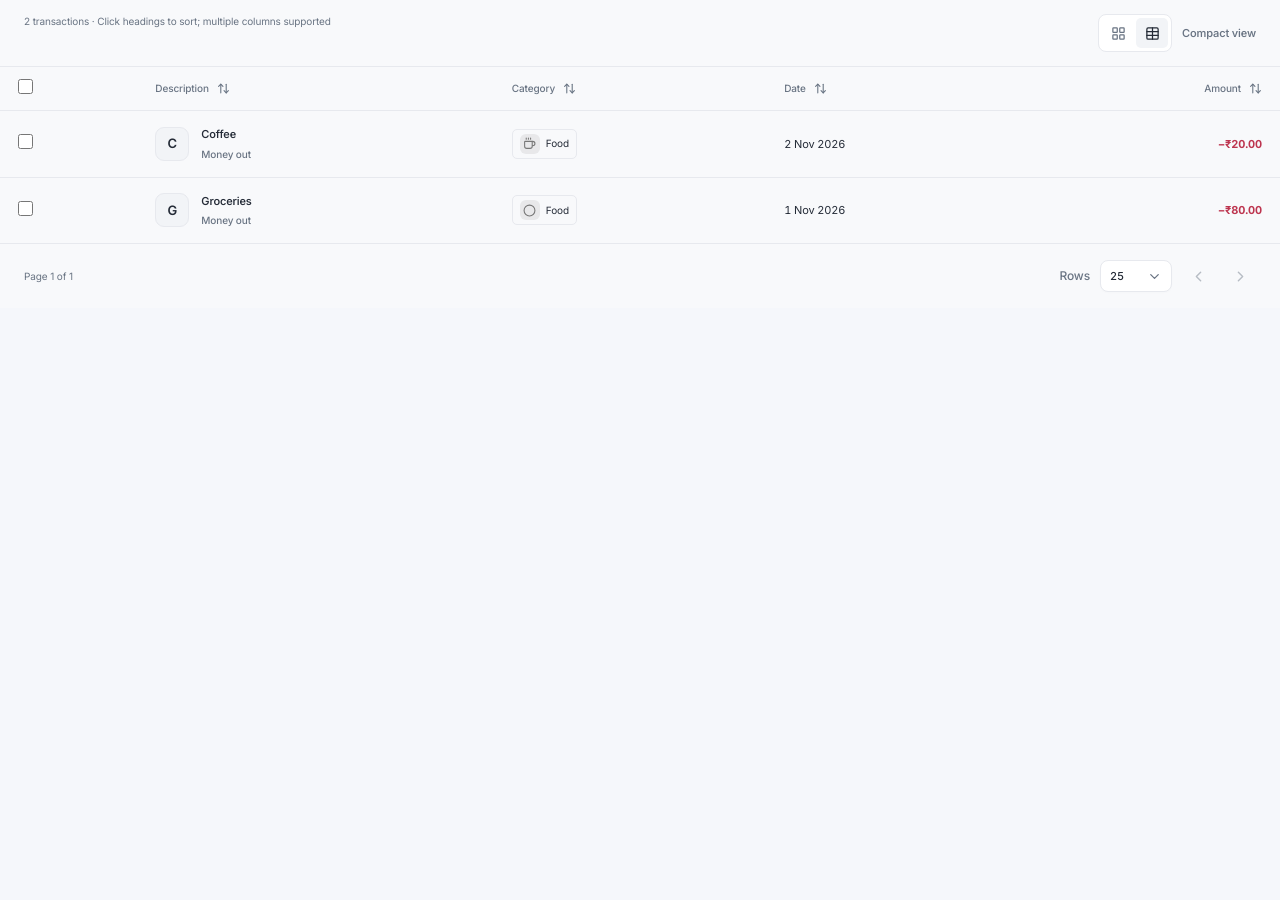
Test: Transaction UI › switches to a selectable transaction grid
The image size is (1280, 900).
Click the button named "Grid view" at [1118, 33], box [1102,18,1134,48]
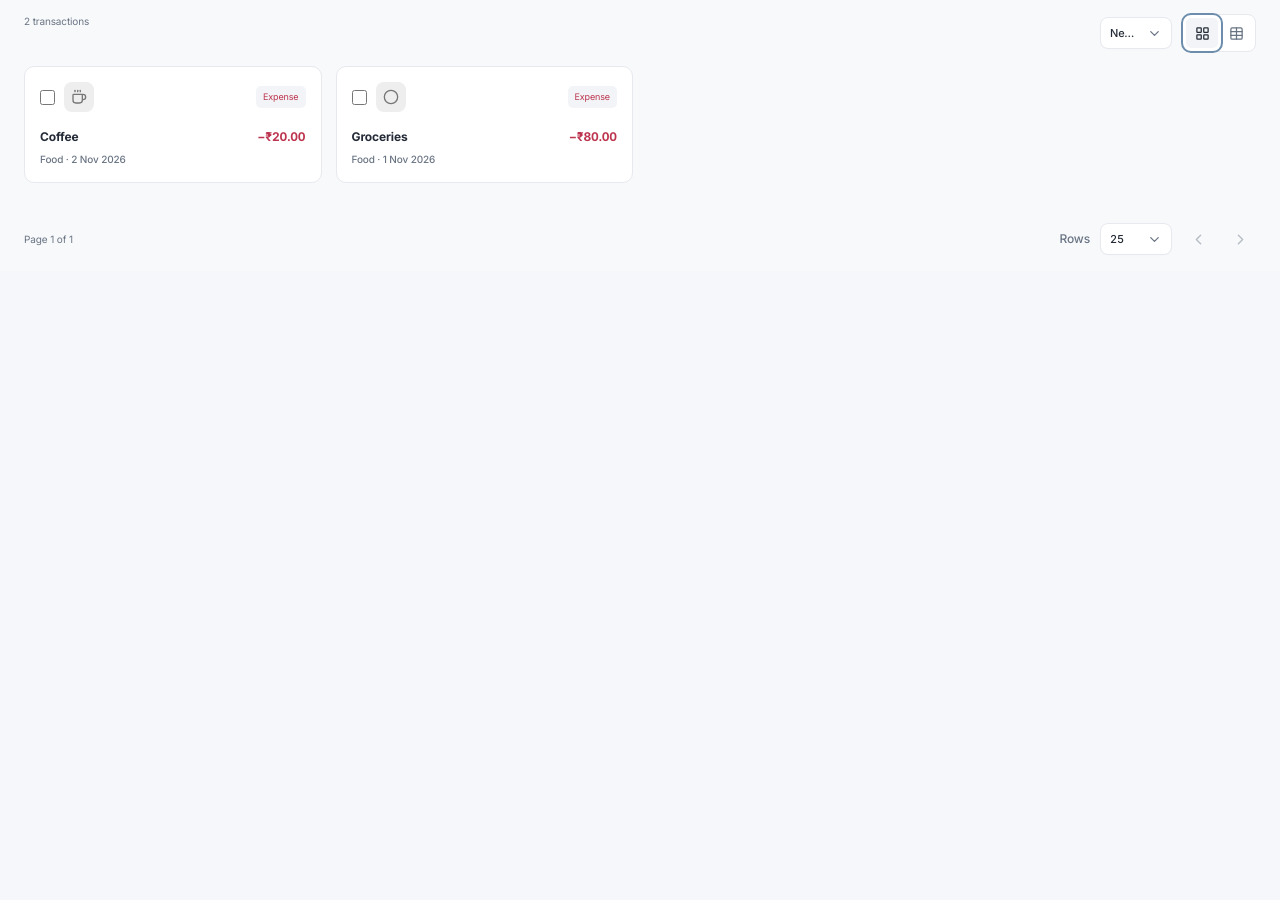
expect the number of list items is 2: met, box [24,66,322,183]; [336,66,633,183]
Click the checkbox named "Select Coffee" at [48, 97], box [40,90,55,104]
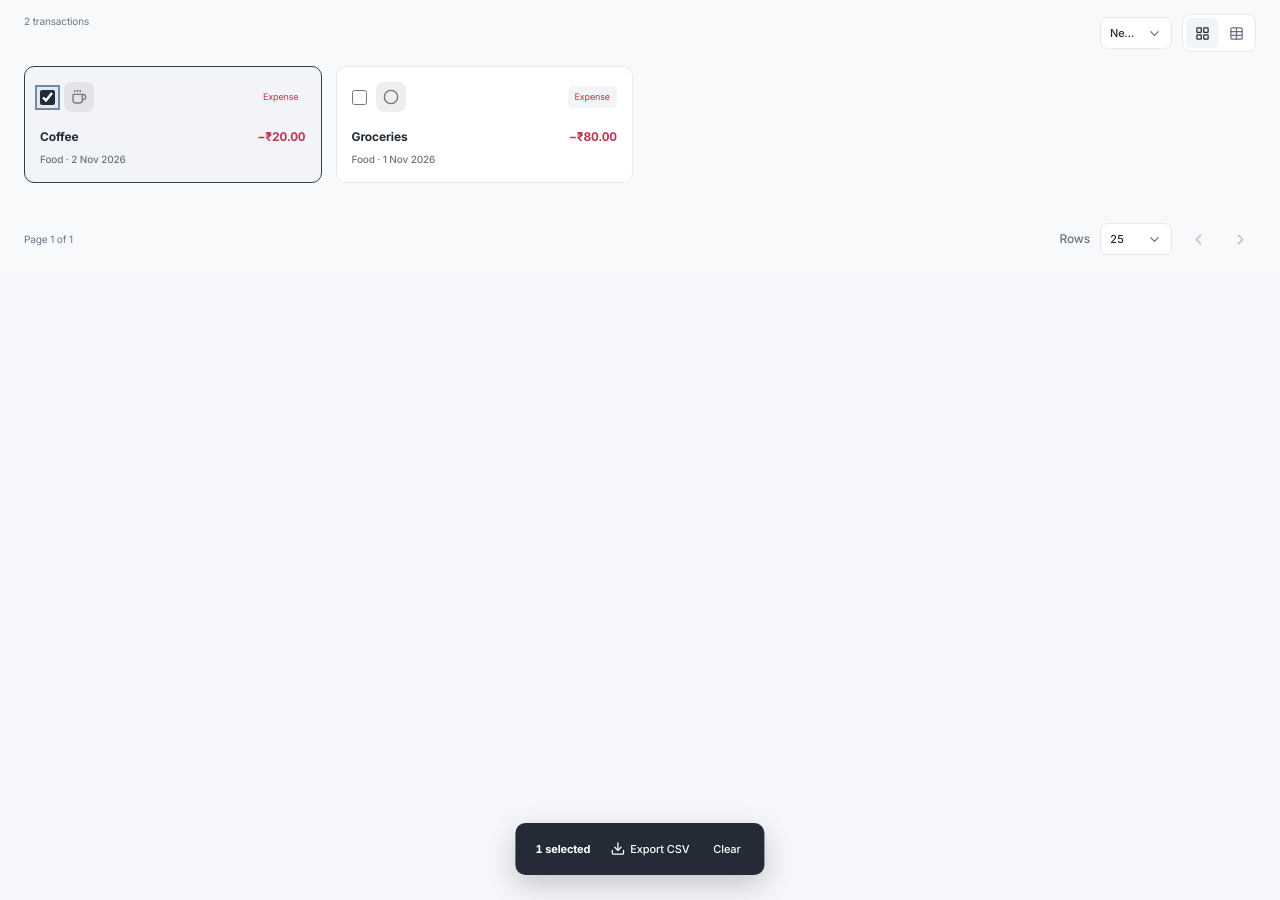
expect the text "1 selected" is shown: met, box [535,840,590,857]
